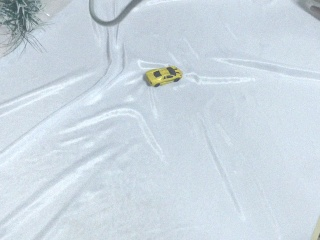toy_car: (145, 65, 182, 87)
